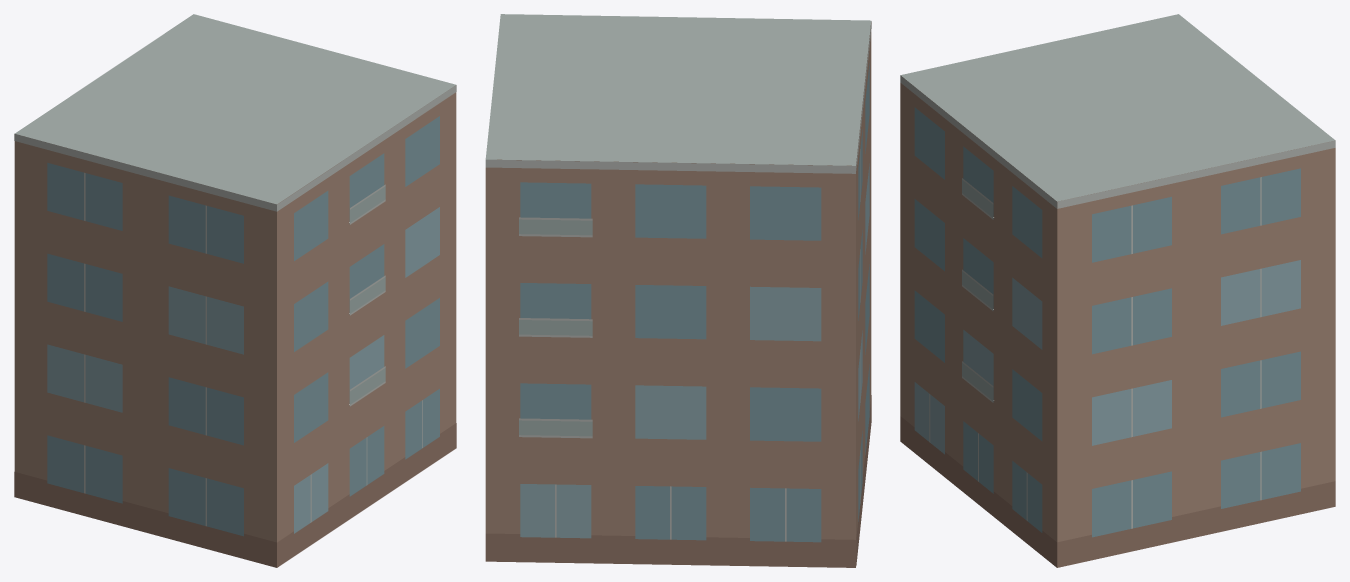
Rendered from survey-upis-32835027.glb.
3 renders of one model, left to right at view 1: azimuth 30°, elevation 25°; view 2: azimuth 150°, elevation 25°; view 3: azimuth 270°, elevation 25°, orthographic. The views are drawn at different scales.
Parts seen in each view (by area): view 1: survey-upis-32835027.tmp; view 2: survey-upis-32835027.tmp; view 3: survey-upis-32835027.tmp.
Part boxes in pixels (left/top/right/bottom): survey-upis-32835027.tmp: left=14, top=14, right=456, bottom=567; survey-upis-32835027.tmp: left=485, top=14, right=871, bottom=567; survey-upis-32835027.tmp: left=900, top=14, right=1335, bottom=567.
Bounding box in the file's own units: 13.41 × 12.2 × 13.15.
